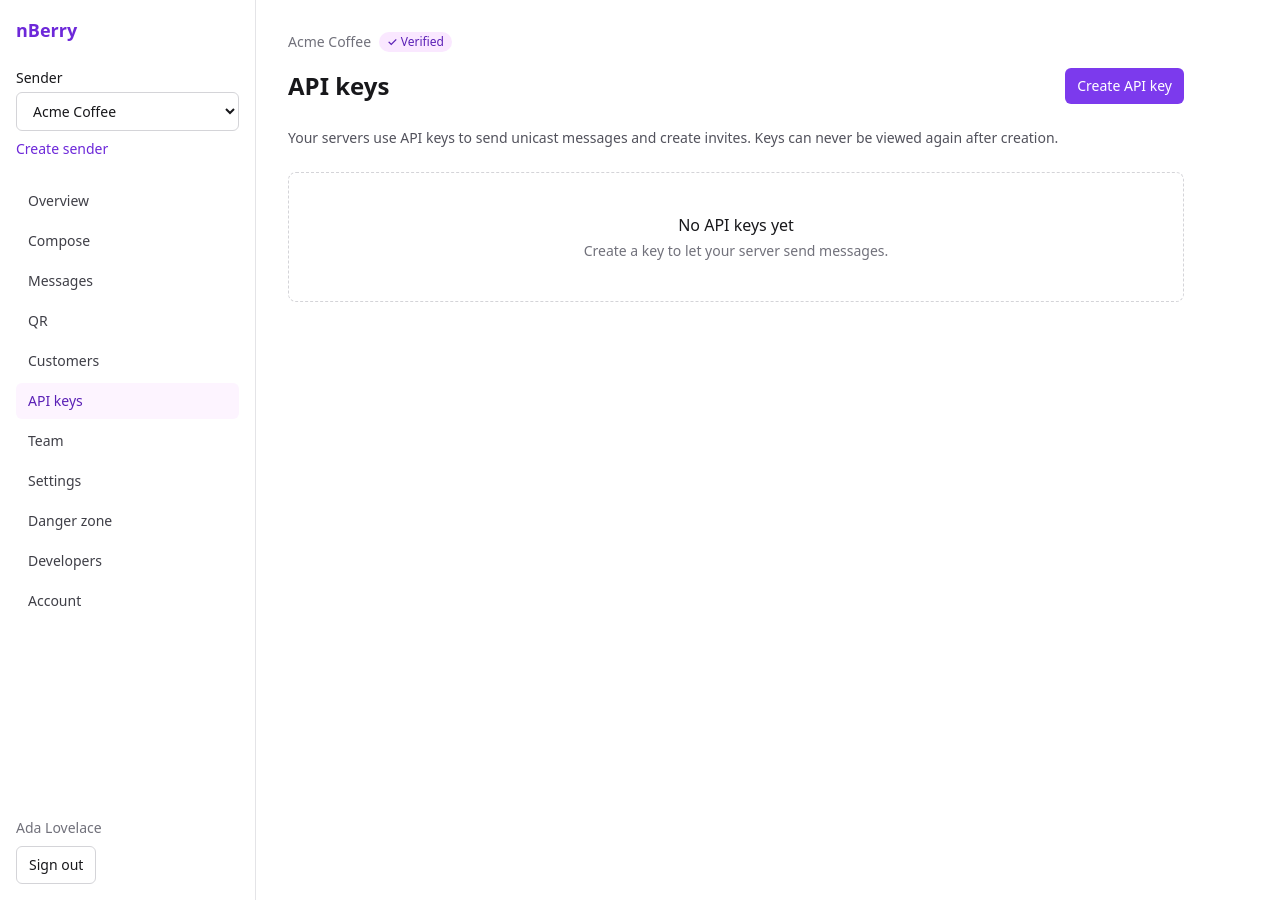
API keys › requires a name
Click the button "Create API key": click(1125, 86) [1065,68,1184,104]
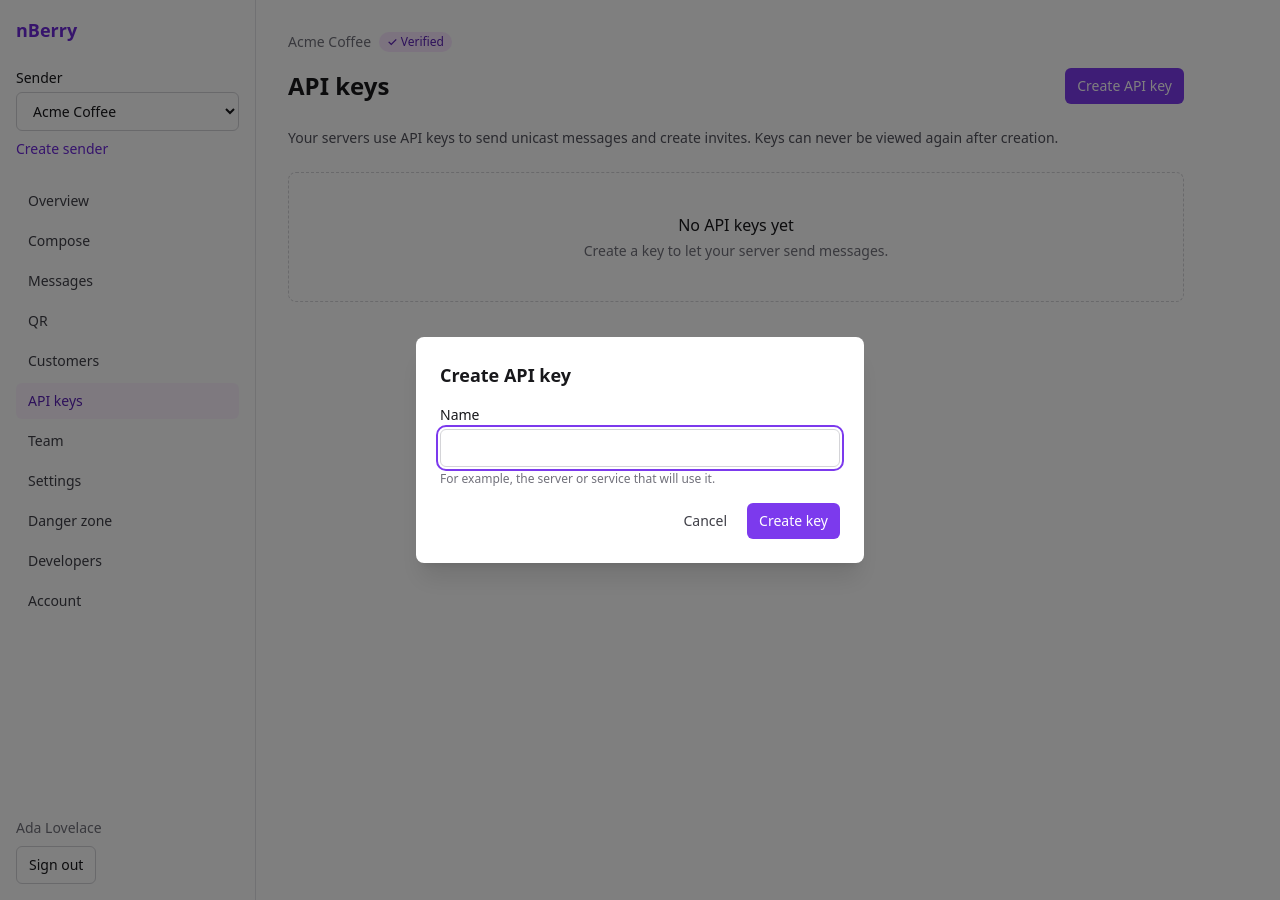
Click the button "Create key": click(794, 521) [747,503,840,539]
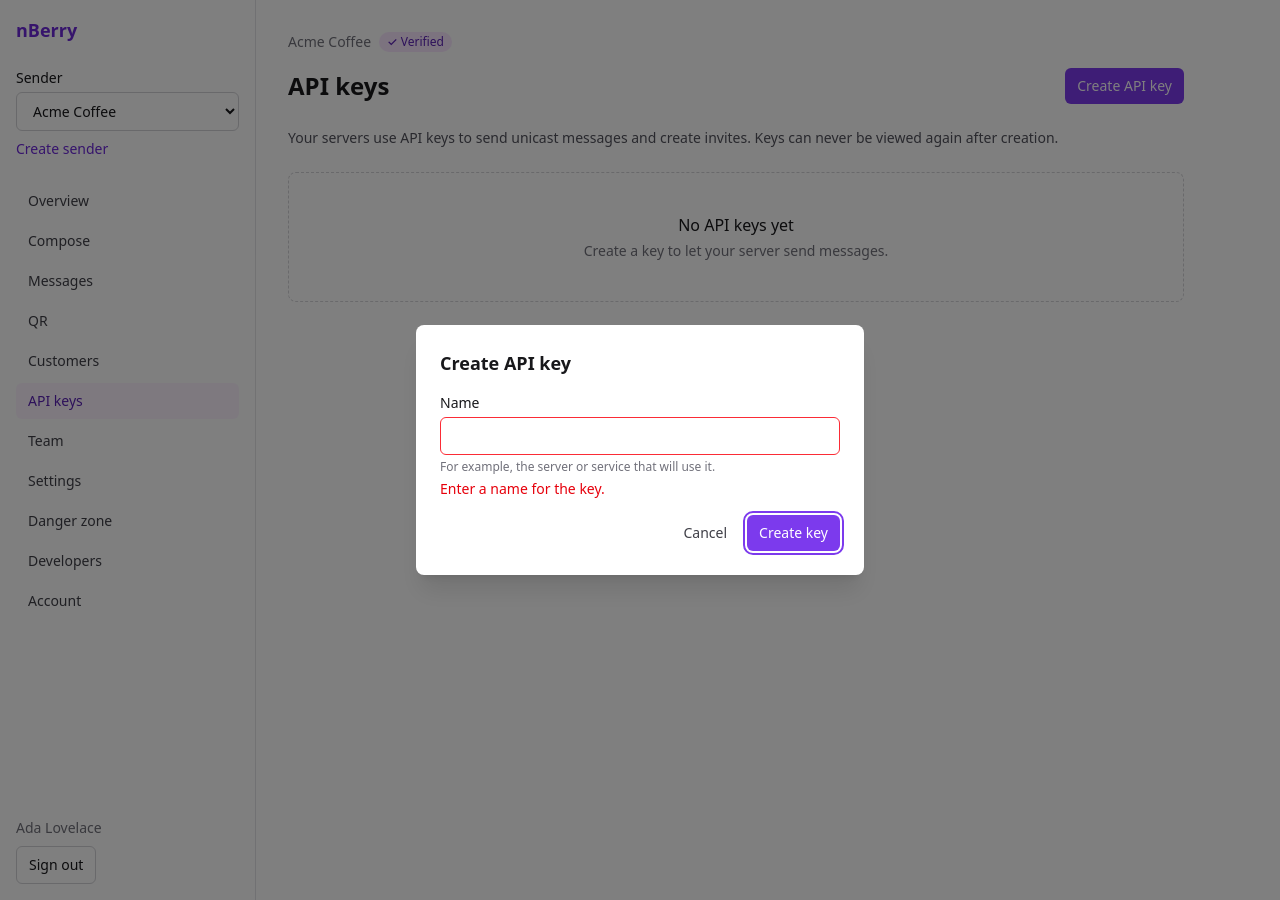
Expected: the text "Enter a name for the key." is shown, [440,479,605,498]
